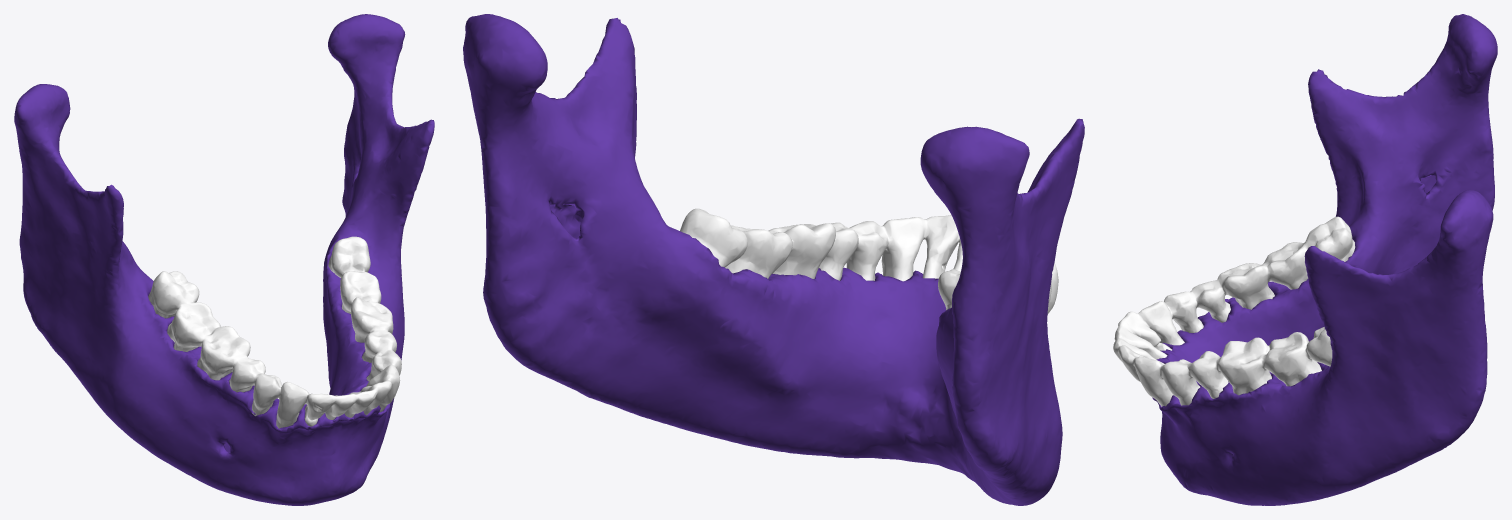
File: mandibula.glb
3 views of the same model, side by side, from view 1: azimuth 30°, elevation 25°; view 2: azimuth 150°, elevation 25°; view 3: azimuth 270°, elevation 25° (orthographic). The views are drawn at different scales.
Visible parts, largest first — view 1: Mandible:STL_Output_from_geomagic_Studio____________________, Lower_teeth:STL_Output_from_geomagic_Studio_________________; view 2: Mandible:STL_Output_from_geomagic_Studio____________________, Lower_teeth:STL_Output_from_geomagic_Studio_________________; view 3: Mandible:STL_Output_from_geomagic_Studio____________________, Lower_teeth:STL_Output_from_geomagic_Studio_________________.
Part boxes in pixels (x1,y1,x2,y2): Mandible:STL_Output_from_geomagic_Studio____________________: (14,14,434,505); Lower_teeth:STL_Output_from_geomagic_Studio_________________: (148,236,401,428); Mandible:STL_Output_from_geomagic_Studio____________________: (463,14,1084,505); Lower_teeth:STL_Output_from_geomagic_Studio_________________: (680,208,1058,314); Mandible:STL_Output_from_geomagic_Studio____________________: (1152,14,1497,505); Lower_teeth:STL_Output_from_geomagic_Studio_________________: (1113,216,1355,406).
Size of the model in its own units: 0.1054 by 0.0936 by 0.0859.
